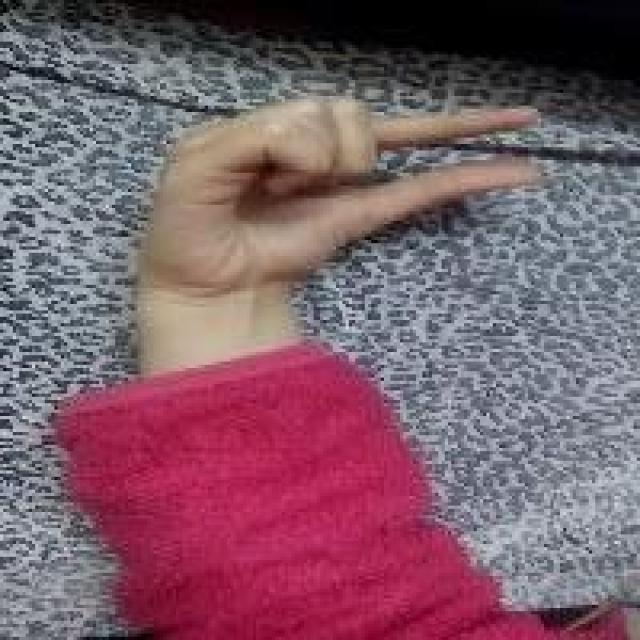G: (136, 96, 558, 275)
